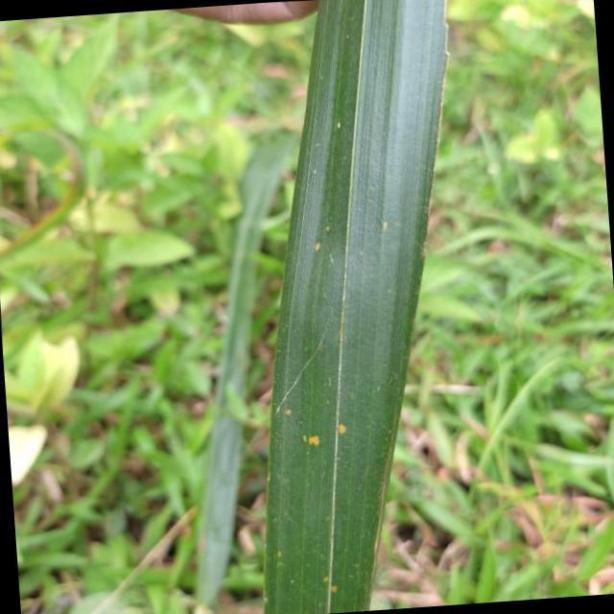Boron: (267, 0, 454, 614)
